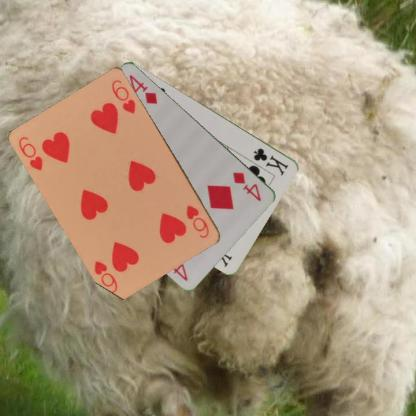4d: (230, 169, 263, 203)
6h: (16, 134, 45, 172), (184, 202, 211, 240)
Kc: (251, 145, 290, 177)
